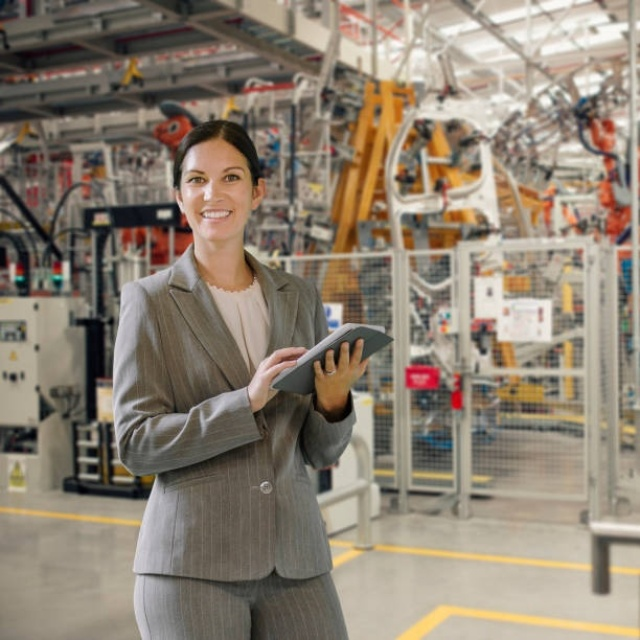Sin_gafas: (183, 162, 250, 192)
Sin_guantes: (247, 343, 310, 408), (311, 337, 369, 407)
Sin_mascara: (192, 204, 237, 231)
